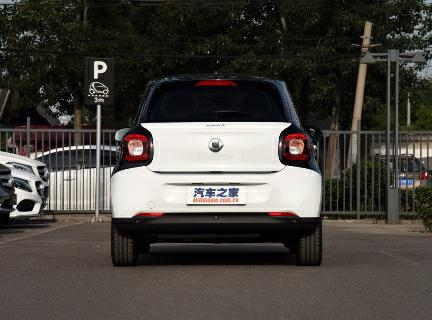smart-forfour: (107, 63, 318, 262), (3, 137, 47, 227), (35, 142, 120, 171), (373, 151, 425, 179)
